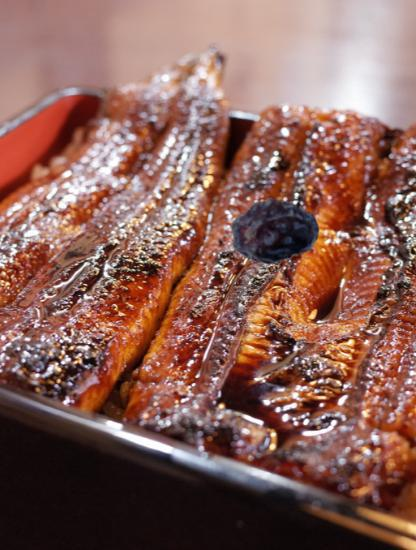Dates: (229, 186, 318, 275)
